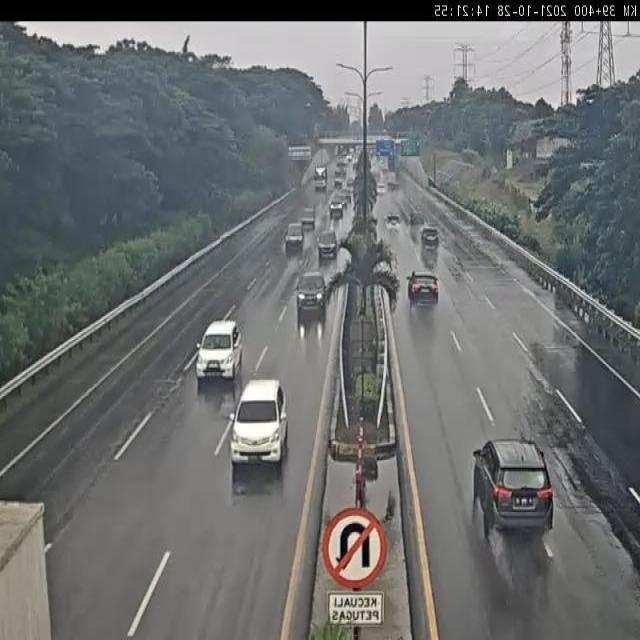Bus: (314, 167, 328, 190)
Car: (472, 439, 554, 538), (228, 375, 291, 467), (193, 318, 242, 382), (296, 269, 327, 315), (406, 270, 439, 308), (284, 222, 304, 254), (317, 230, 337, 259), (421, 226, 440, 249), (300, 204, 316, 229), (329, 200, 344, 219), (385, 214, 401, 230), (334, 192, 348, 209), (342, 188, 351, 203), (377, 182, 387, 195), (346, 177, 354, 187)
